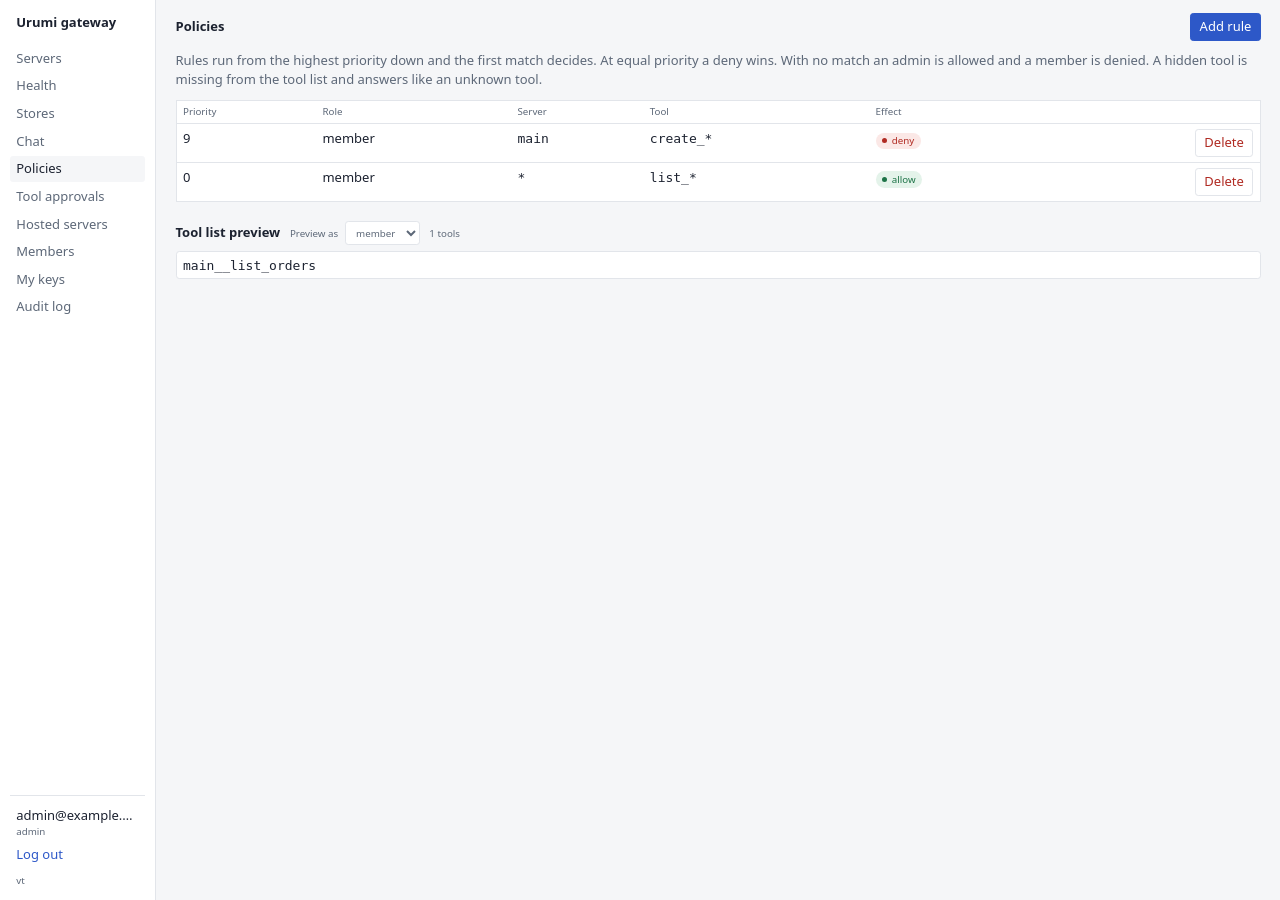
Test: Policies page through the real routes › switches the preview with the role select
Expected: the text "main__list_orders" is shown, [183,256,316,275]
Expected: the text "main__create_product" is not shown
Select "admin" in the dropdown labelled "Preview as": (382, 233) [345,221,420,245]
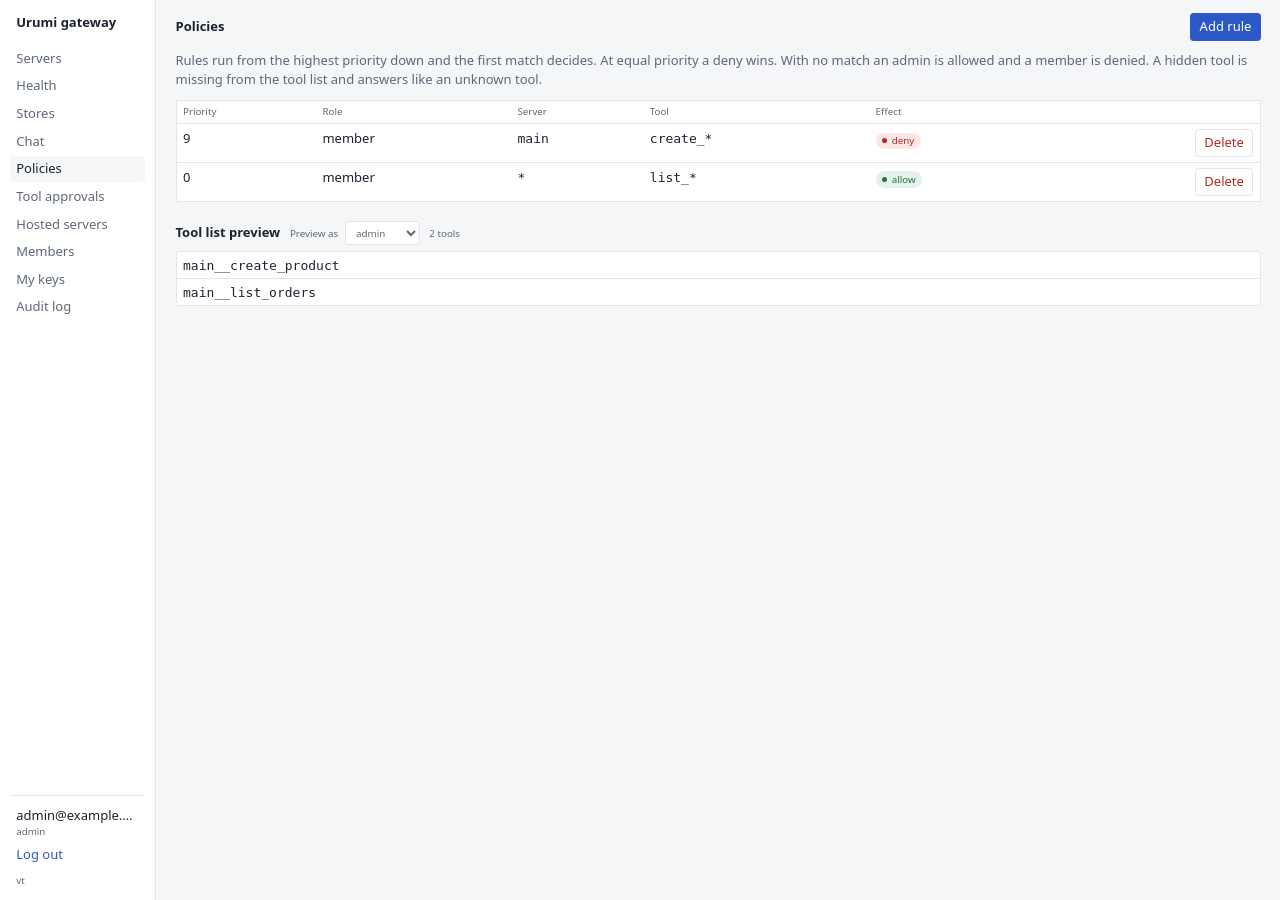
Expected: the text "main__create_product" is shown, [183,256,340,275]
